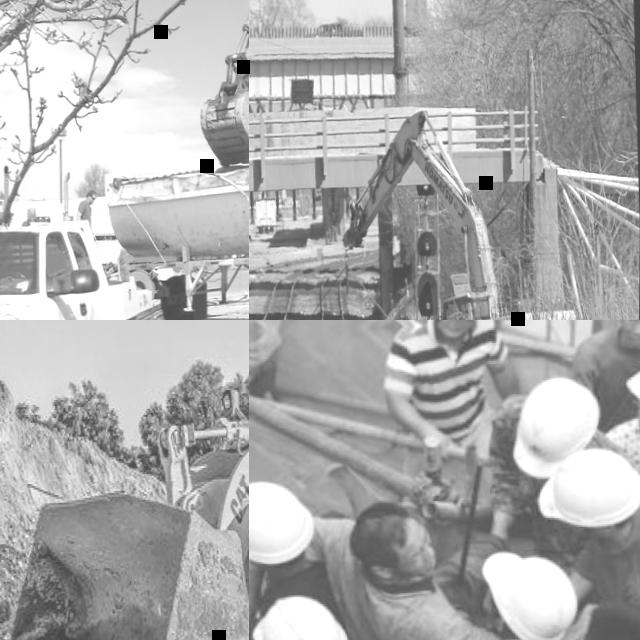Hardhat: (474, 536, 583, 640), (511, 372, 609, 484), (249, 453, 325, 573), (533, 448, 640, 529), (601, 339, 640, 502), (254, 590, 351, 640)
NO-Hardhat: (347, 499, 410, 561), (583, 605, 640, 640), (88, 188, 96, 196)
NO-Mask: (414, 552, 439, 580), (89, 197, 93, 204)
NO-Safety Vest: (330, 553, 440, 640), (404, 336, 489, 436), (576, 529, 640, 640), (271, 538, 334, 616), (499, 426, 547, 523), (586, 333, 640, 419), (81, 199, 92, 222)
Person: (293, 485, 497, 640), (486, 370, 623, 560), (533, 444, 640, 640), (381, 328, 521, 459), (249, 477, 351, 640), (476, 534, 582, 640), (570, 320, 640, 425), (76, 189, 97, 225)
Safety Cone: (249, 245, 250, 257)
vehicle: (0, 320, 249, 640), (339, 103, 584, 320), (0, 127, 249, 320), (192, 0, 249, 308), (403, 0, 462, 34), (307, 20, 372, 40), (256, 199, 280, 233)
